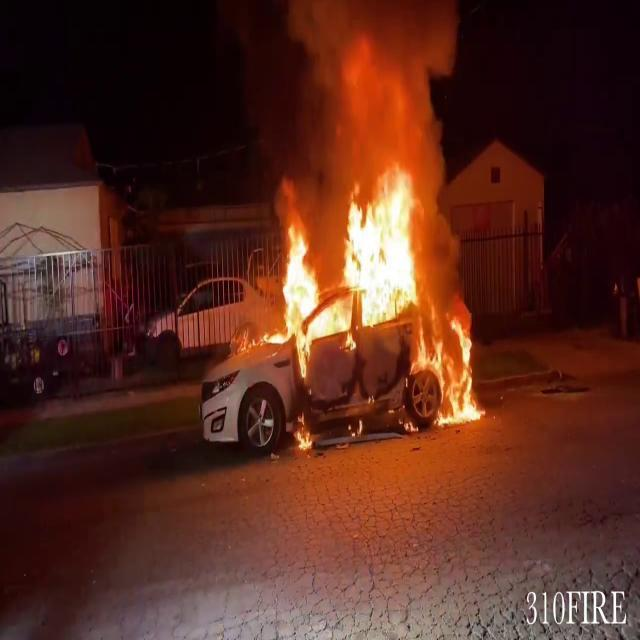Fire: (264, 140, 484, 434), (416, 295, 484, 429), (293, 414, 315, 454)
Smoke: (252, 2, 468, 194)
